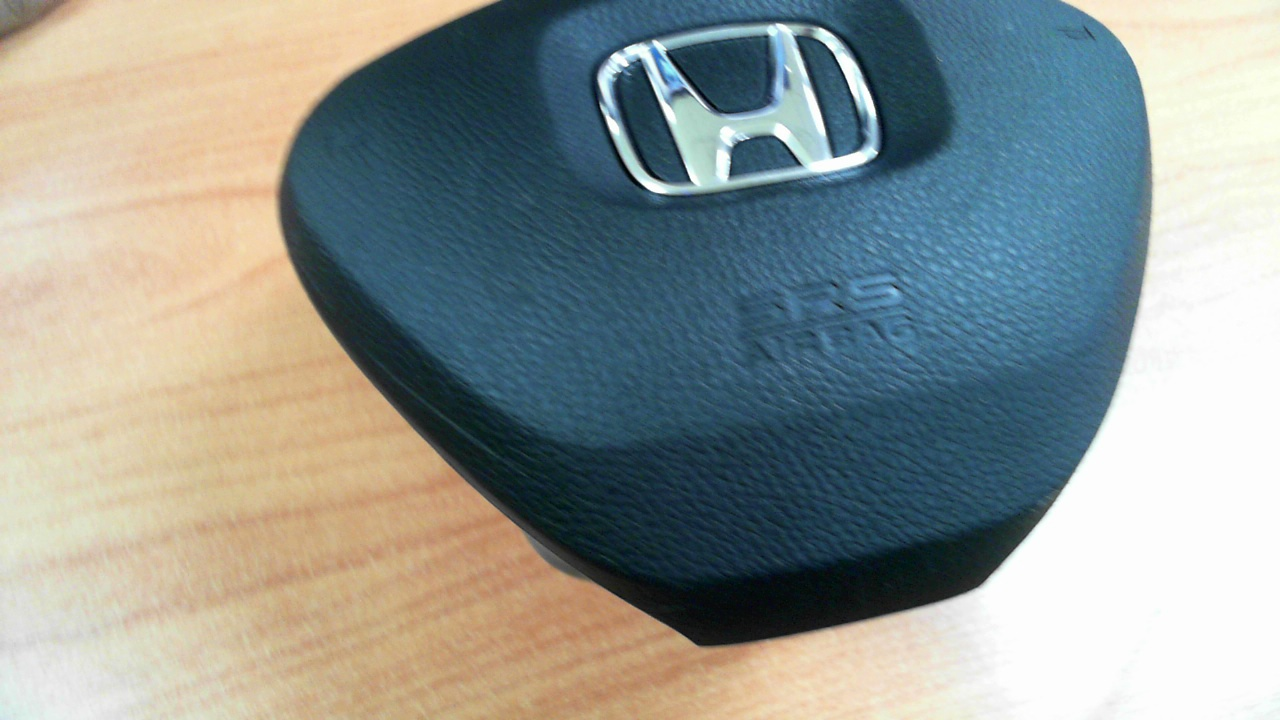Airbag: (275, 0, 1156, 649)
Honda: (596, 21, 879, 196)
